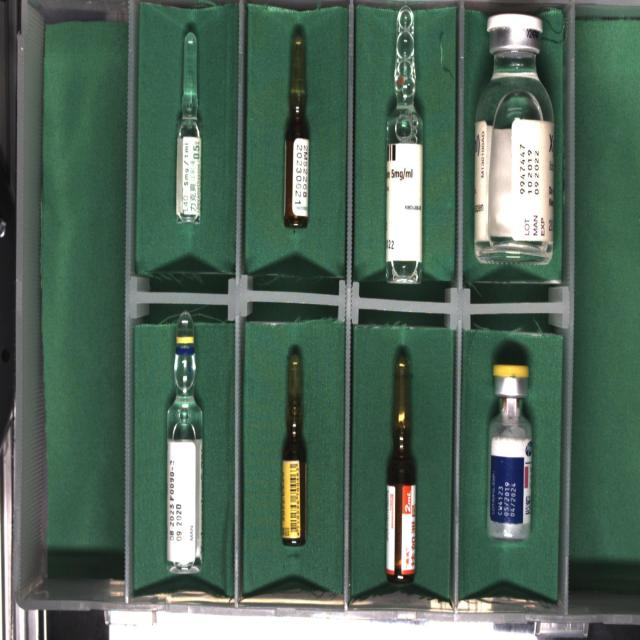Vials: (474, 15, 554, 265), (487, 363, 532, 540)
